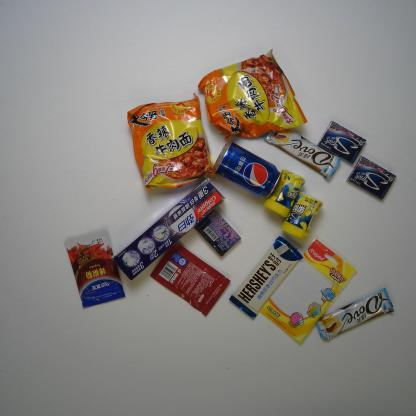Chocolate: (231, 234, 302, 320), (263, 121, 340, 180), (315, 287, 395, 343)
Drink: (214, 140, 284, 198)
Gum: (281, 190, 324, 242), (263, 168, 306, 219), (316, 121, 365, 164), (348, 156, 395, 200), (195, 209, 239, 256)
Instant Noodles: (197, 46, 307, 142), (128, 98, 218, 190)
Personal Hygiene: (113, 178, 225, 279)
Seasoner: (151, 239, 231, 317), (63, 228, 127, 305)
Stationery: (261, 238, 356, 345)
